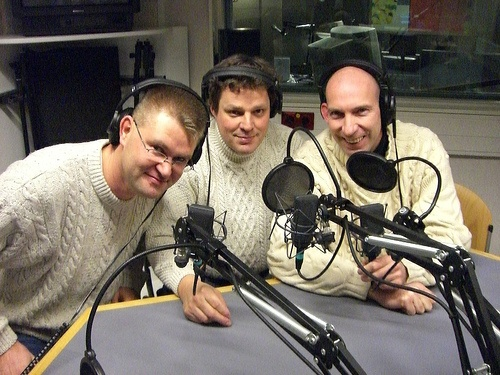head: (118, 81, 206, 203), (207, 56, 273, 160), (321, 67, 386, 157)
person: (0, 75, 228, 375), (135, 40, 315, 342), (298, 31, 469, 344)
